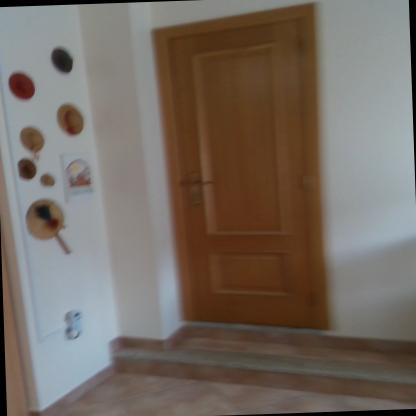closed: (130, 0, 351, 339)
